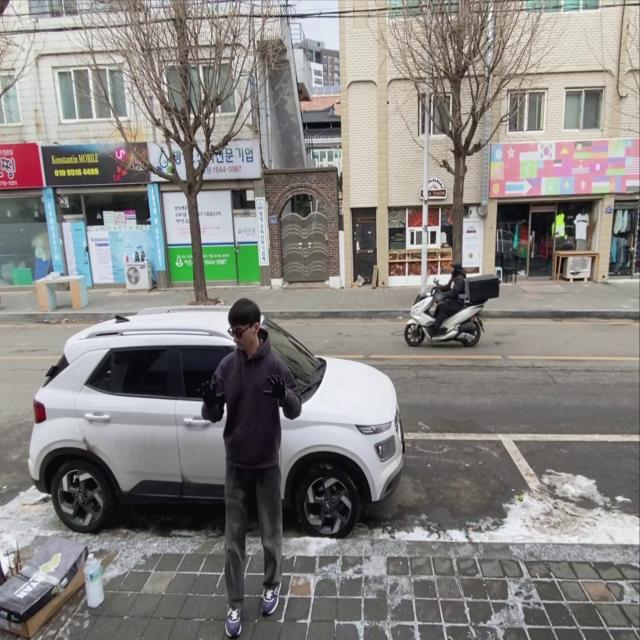gloved_hand: (260, 372, 290, 404), (197, 381, 224, 410)
